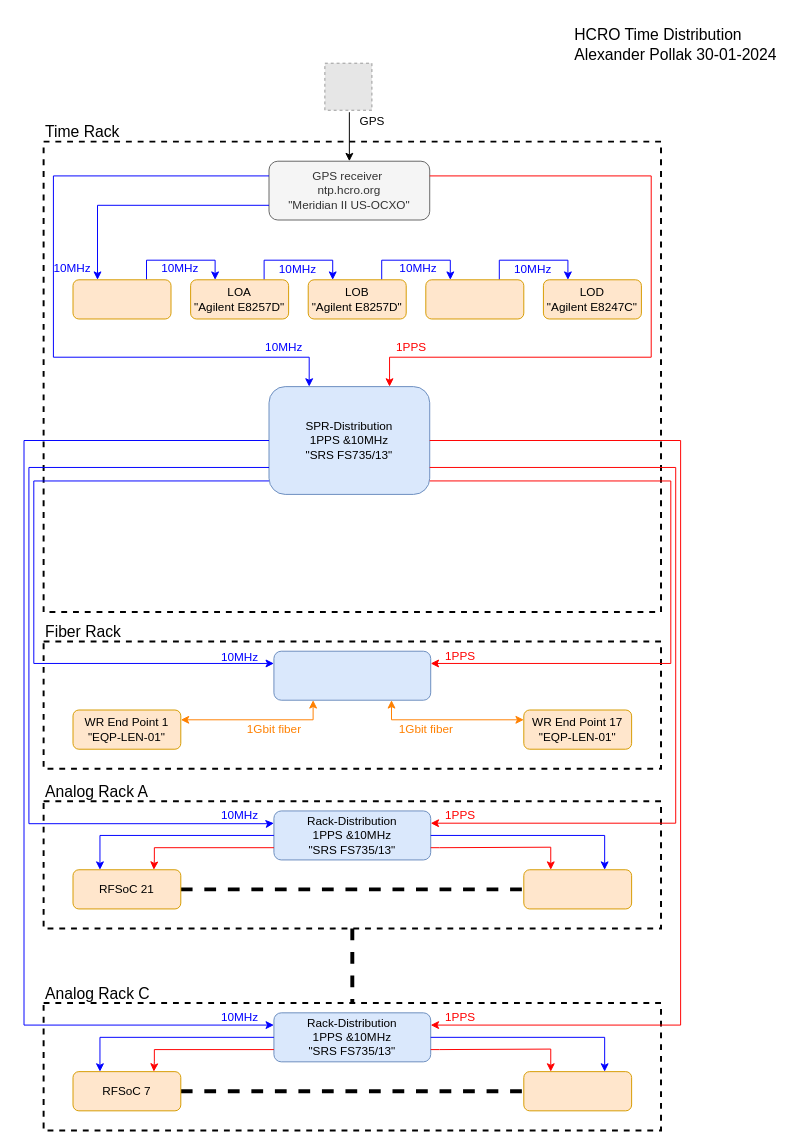
Some shapes in this 810 by 1148 pixel diagram are drawn without their labels. Grey dashed boxes stand in for pictures. Each missing label, with the centre of its shape:
LO2 "HP 83831B": the point at 121,299
LOC "Agilent E8257D": the point at 474,299
RFSoC 1: the point at 577,1091
RFSoC 14: the point at 577,889
White Rabbit Switch Low Jitter "EQP-WRS-LJ-01": the point at 352,675
